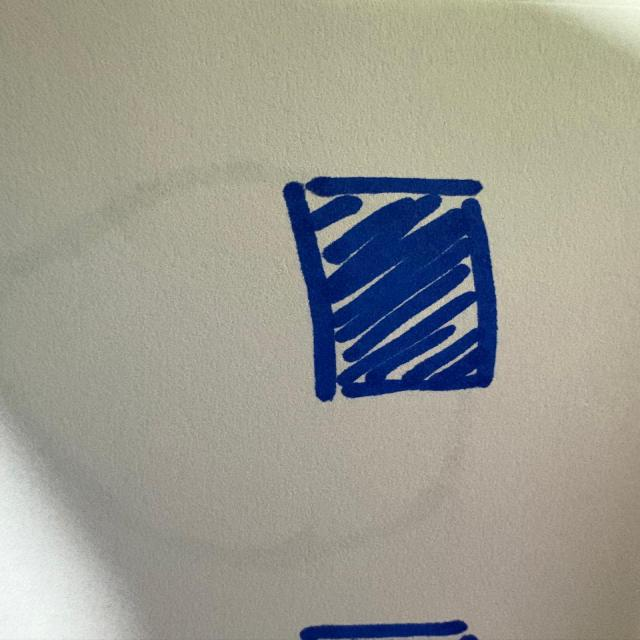Rectangle: (271, 173, 513, 400)
